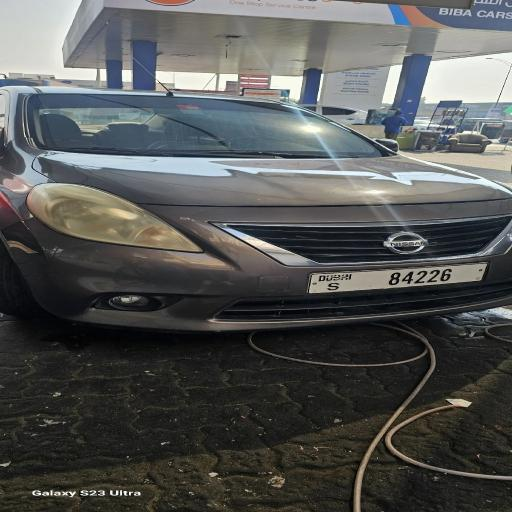license-plates: (308, 261, 490, 294)
